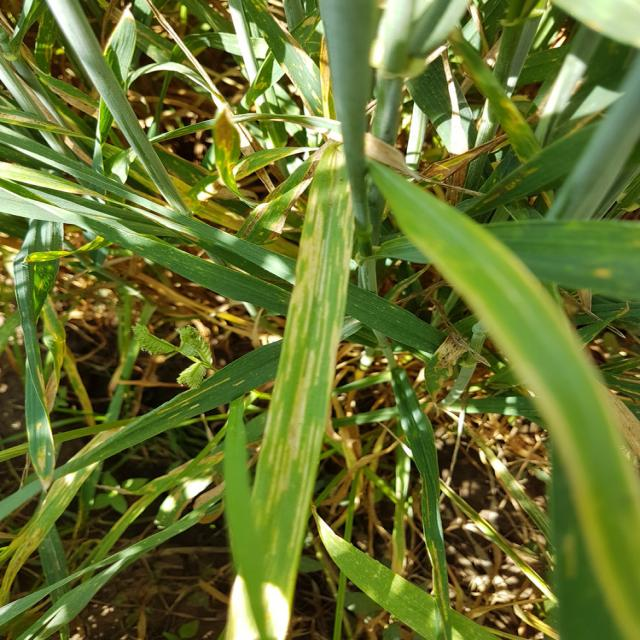wheat-septoria: (235, 139, 334, 245), (412, 133, 509, 189), (0, 516, 57, 606), (37, 295, 66, 415), (424, 333, 470, 408), (0, 104, 95, 140), (231, 146, 317, 181), (213, 101, 239, 198), (45, 75, 99, 121), (182, 169, 224, 218)
wheat-yellowrust: (252, 144, 357, 593)
